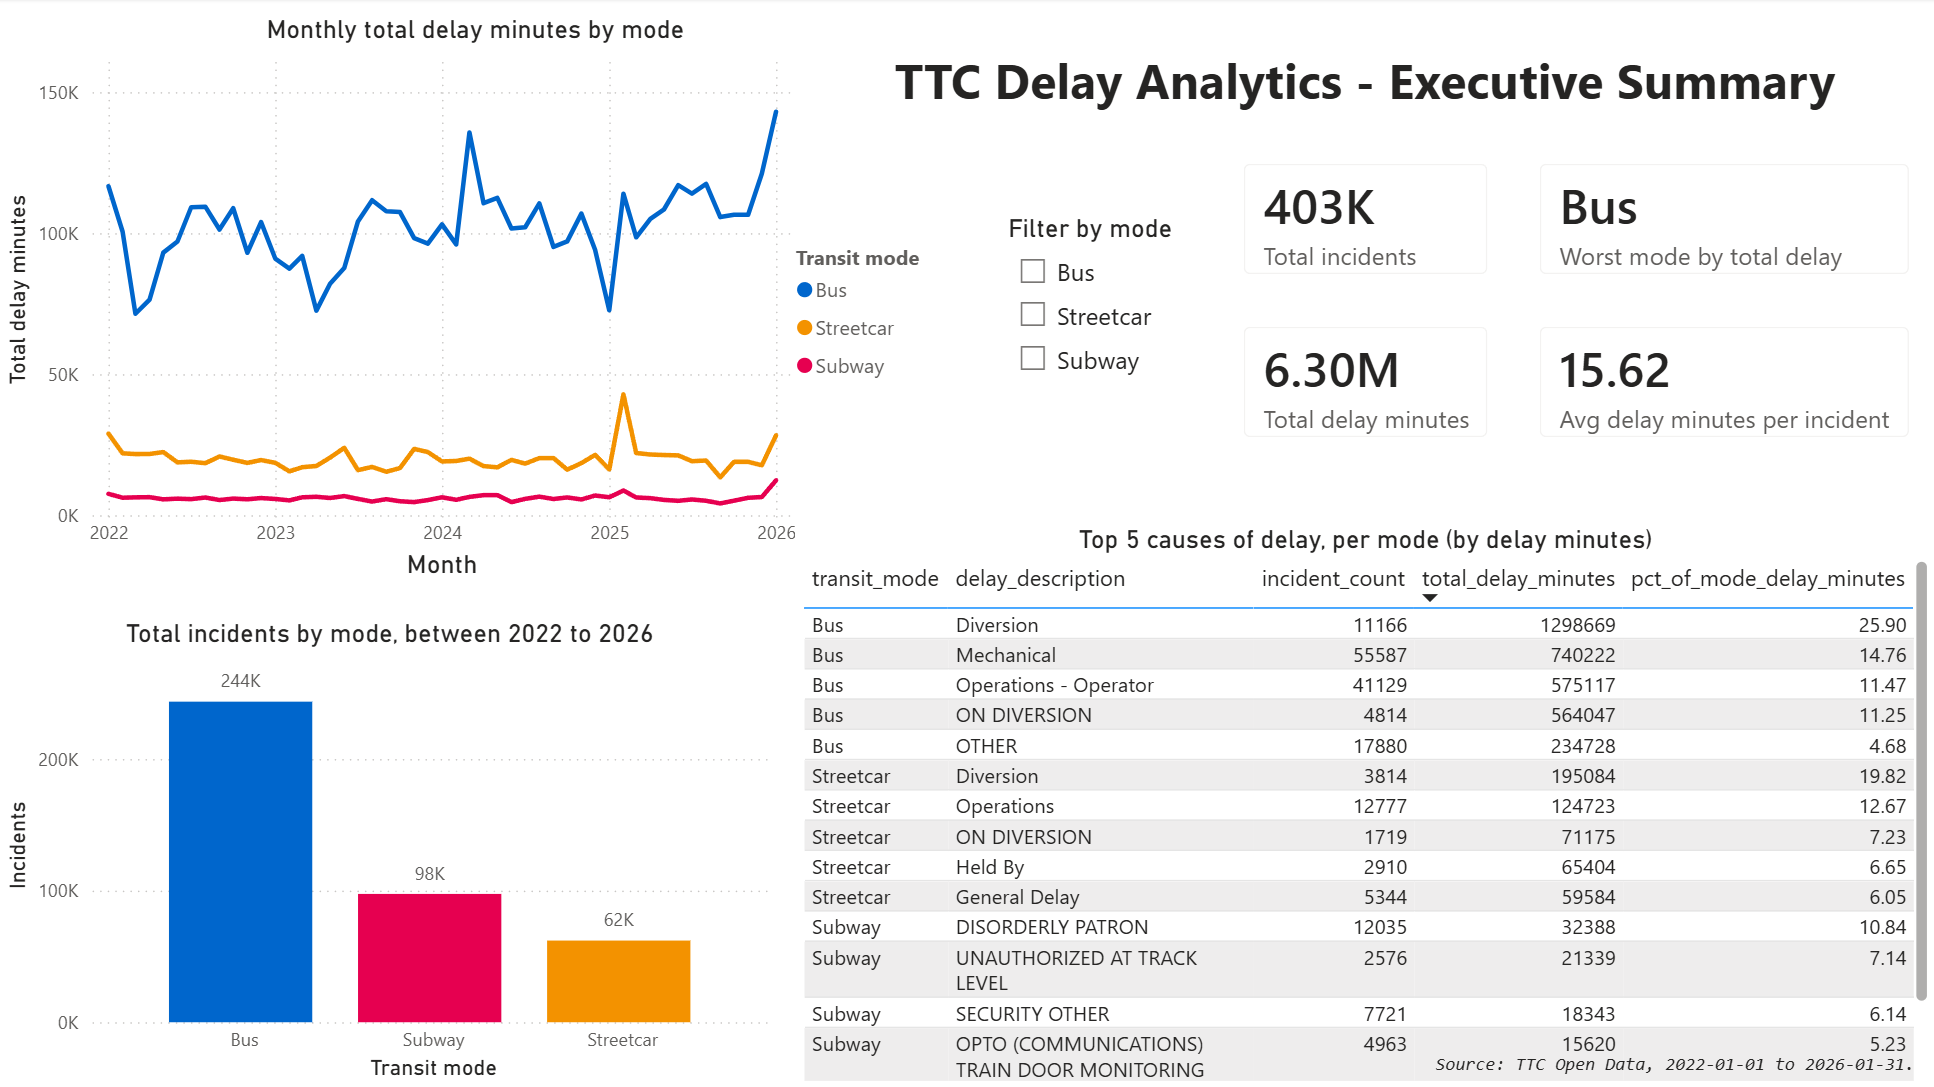

Layout of this report page (visuals, bound fields, positions):
{"tool":"powerbi","page":{"name":"Executive Summary","canvas":[1280,720],"ordinal":0},"visuals":[{"type":"cardVisual","fields":{"Data":["Sum(public vw_kpi_summary.total_incidents)"]},"box":[806.1,92.5,195.9,107.9],"z":0},{"type":"cardVisual","fields":{"Data":["Sum(public vw_kpi_summary.total_delay_minutes)"]},"box":[806.1,200.4,195.9,107.9],"z":1000},{"type":"cardVisual","fields":{"Data":["Avg(public vw_kpi_summary.avg_delay_minutes_per_incident)"]},"box":[1002,200.4,278.4,107.9],"z":2000},{"type":"cardVisual","fields":{"Data":["Min(public vw_kpi_summary.worst_mode_by_total_delay)"]},"box":[1002,92.5,278.4,107.9],"z":3000},{"type":"lineChart","title":"Monthly total delay minutes by mode","fields":{"Y":["Sum(public vw_incidents_by_mode_year_month.total_delay_minutes)"],"Series":["public vw_incidents_by_mode_year_month.transit_mode"],"Category":["public vw_incidents_by_mode_year_month.month_start"]},"box":[0,10.9,631.1,377.2],"z":4000},{"type":"columnChart","title":"Total incidents by mode, between 2022 to 2026","fields":{"Category":["public vw_incidents_by_mode_year_month.transit_mode"],"Y":["Sum(public vw_incidents_by_mode_year_month.incident_count)"]},"box":[0,409.9,517.8,310.1],"z":5000},{"type":"tableEx","title":"Top 5 causes of delay, per mode (by delay minutes)","fields":{"Values":["public vw_top_causes_by_mode.transit_mode","public vw_top_causes_by_mode.delay_description","public vw_top_causes_by_mode.incident_count","public vw_top_causes_by_mode.total_delay_minutes","public vw_top_causes_by_mode.pct_of_mode_delay_minutes"]},"box":[526.9,347.3,753.6,372.7],"z":6000},{"type":"slicer","title":"Filter by mode","fields":{"Values":["public dim_mode.transit_mode"]},"box":[662.9,142.4,119.7,116.1],"z":7000},{"type":"textbox","box":[944.9,689.2,327.4,30.8],"z":8000},{"type":"textbox","box":[526.9,26.3,753.6,52.6],"z":9000}]}

Visuals, with their boxes in screenshot pixels (x1, y1, x2, y2), scaled from the page's 1280x720 canvas onto the 1934x1087 screenshot:
cardVisual - Sum(public vw_kpi_summary.total_incidents): [1218, 140, 1514, 303]
cardVisual - Sum(public vw_kpi_summary.total_delay_minutes): [1218, 303, 1514, 465]
cardVisual - Avg(public vw_kpi_summary.avg_delay_minutes_per_incident): [1514, 303, 1933, 465]
cardVisual - Min(public vw_kpi_summary.worst_mode_by_total_delay): [1514, 140, 1933, 303]
"Monthly total delay minutes by mode" lineChart: [0, 16, 954, 586]
"Total incidents by mode, between 2022 to 2026" columnChart: [0, 619, 782, 1086]
"Top 5 causes of delay, per mode (by delay minutes)" tableEx: [796, 524, 1933, 1086]
"Filter by mode" slicer: [1002, 215, 1182, 390]
textbox: [1428, 1041, 1922, 1086]
textbox: [796, 40, 1933, 119]
